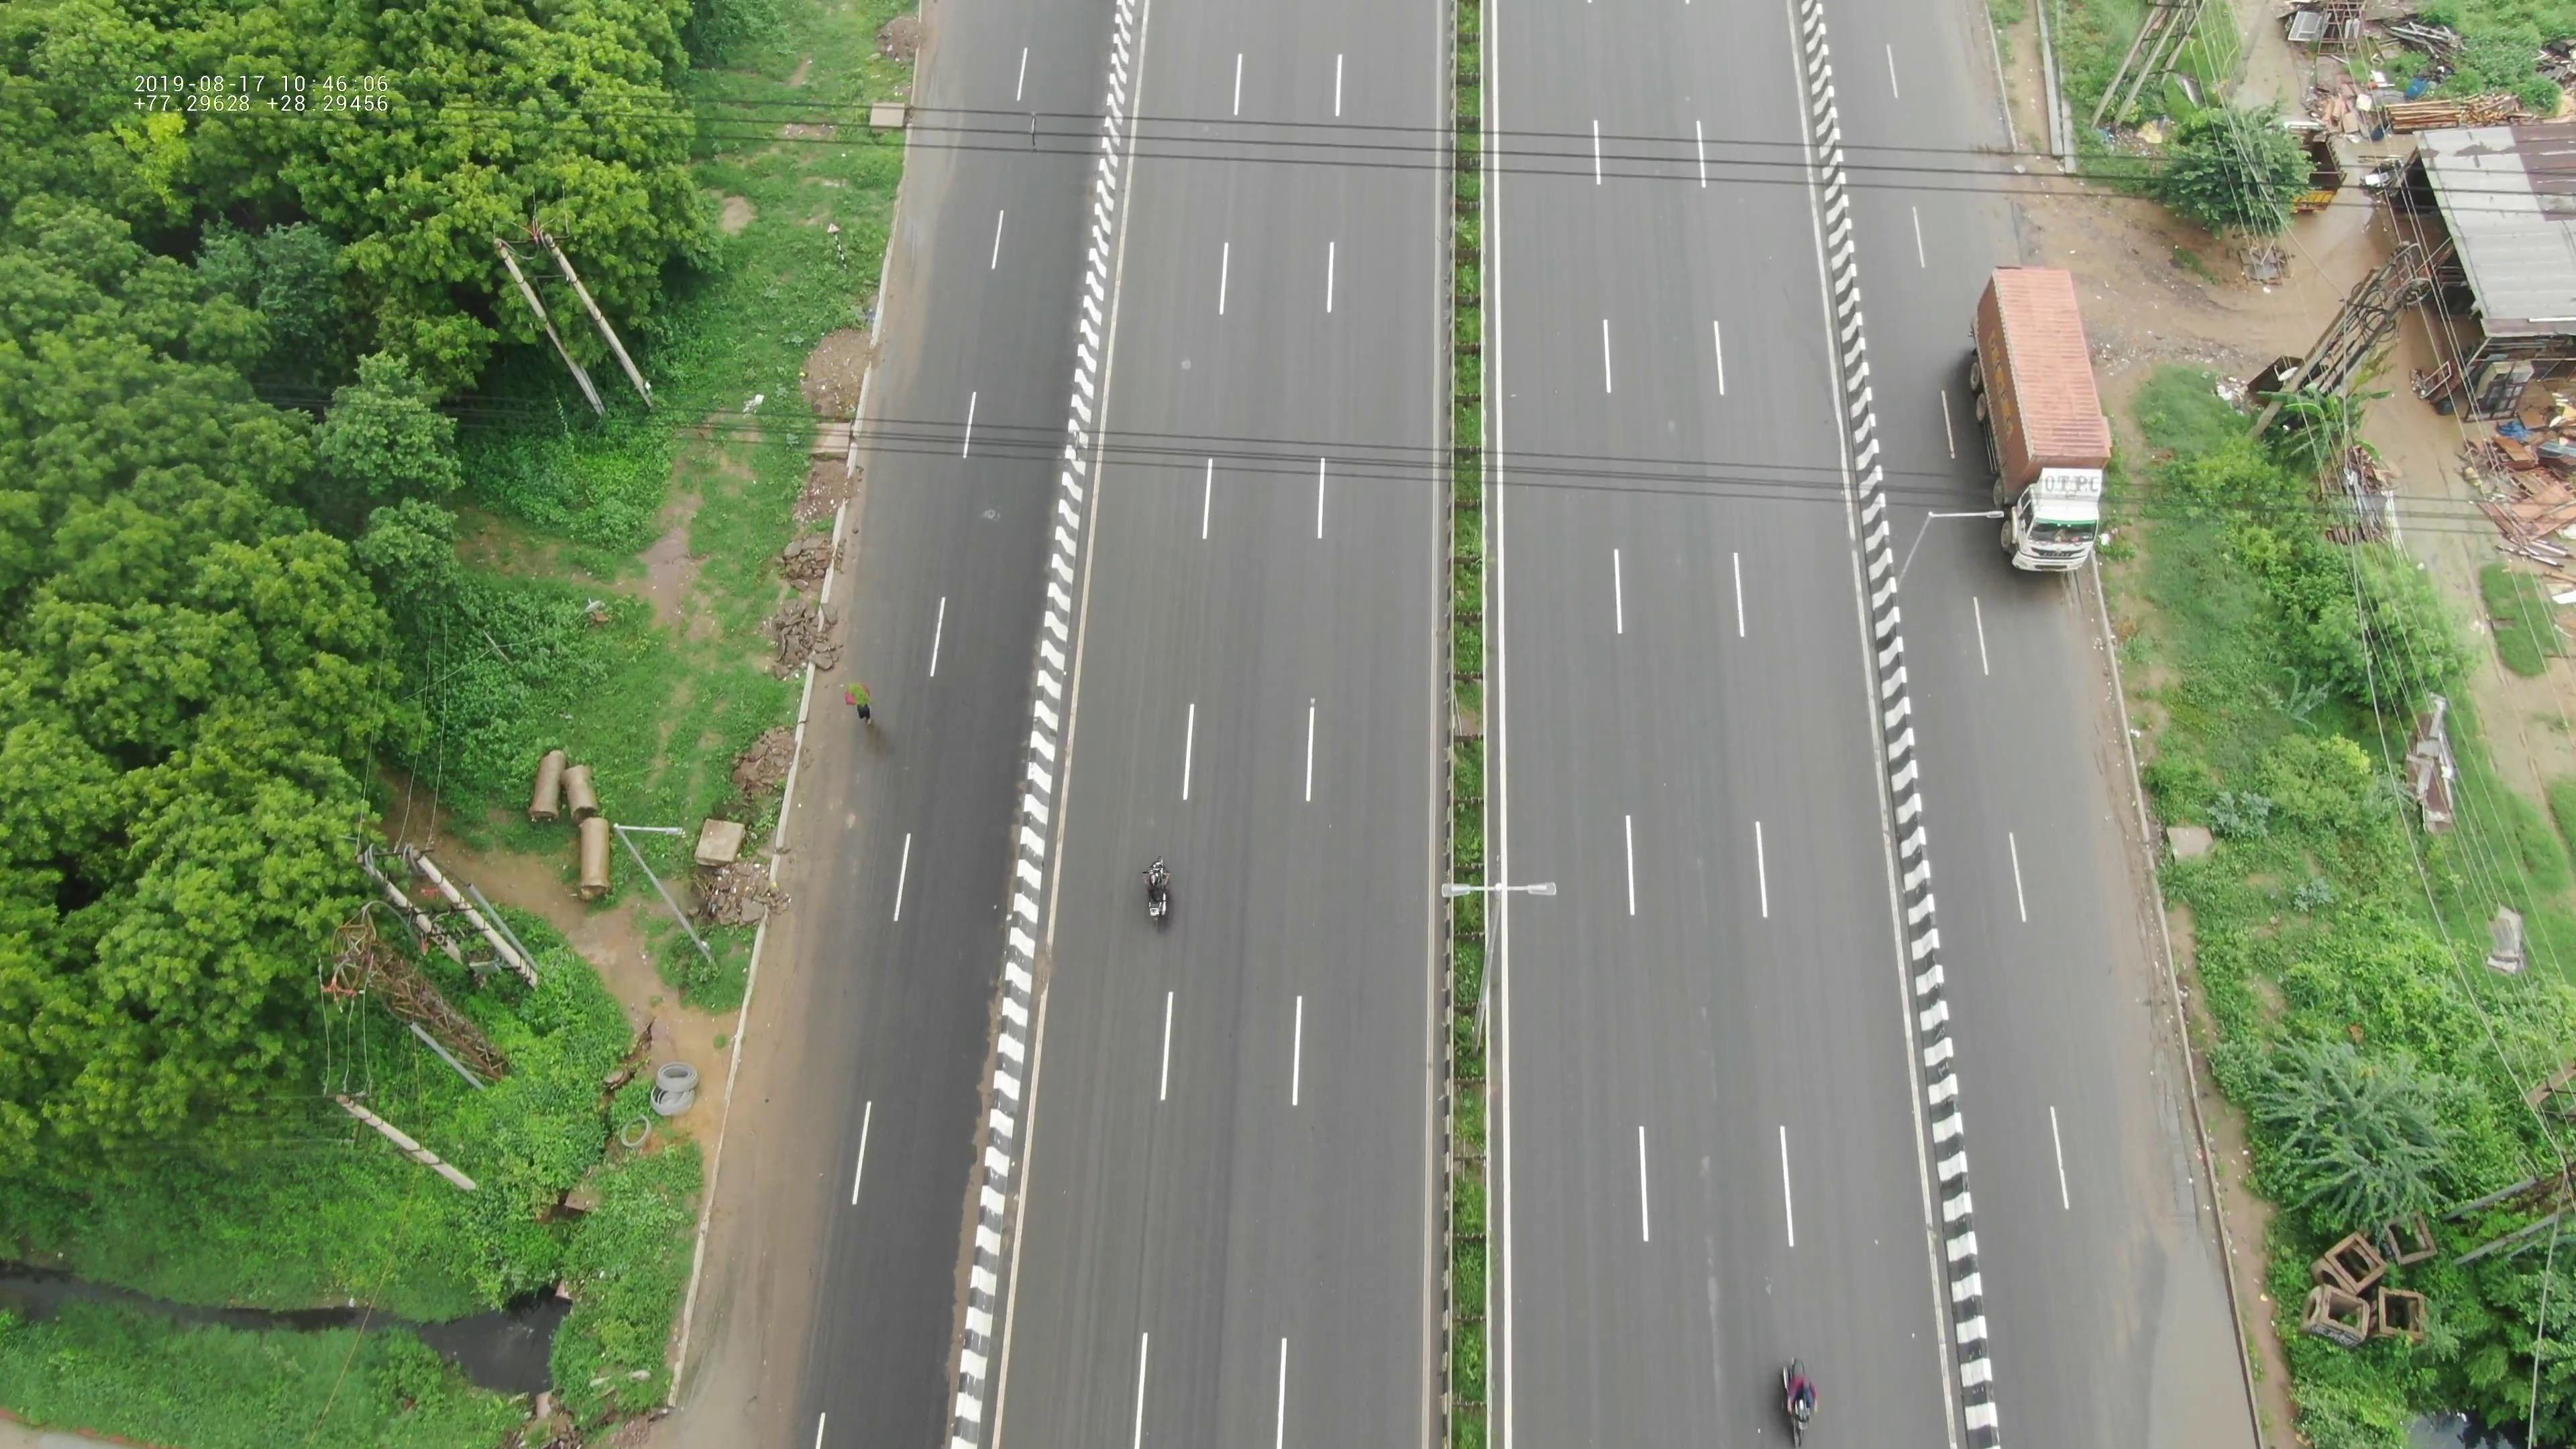Mud_Heaps: (763, 508, 839, 686)
Mud_heaps: (786, 320, 893, 412), (722, 708, 800, 830)
Muddy_road: (694, 1079, 814, 1297)
